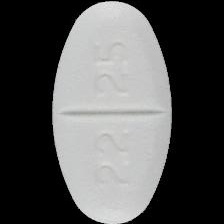0591-2464: (0, 0, 224, 224)
